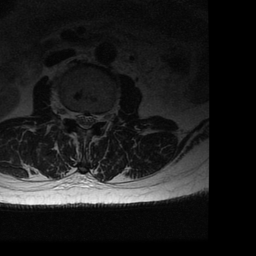CCS_stenosis: (83, 107, 89, 135)
LFS_normal: (96, 107, 103, 128)
LLS_normal: (89, 108, 96, 132)
RFS_normal: (67, 102, 76, 126)
RLS_normal: (76, 107, 83, 130)
